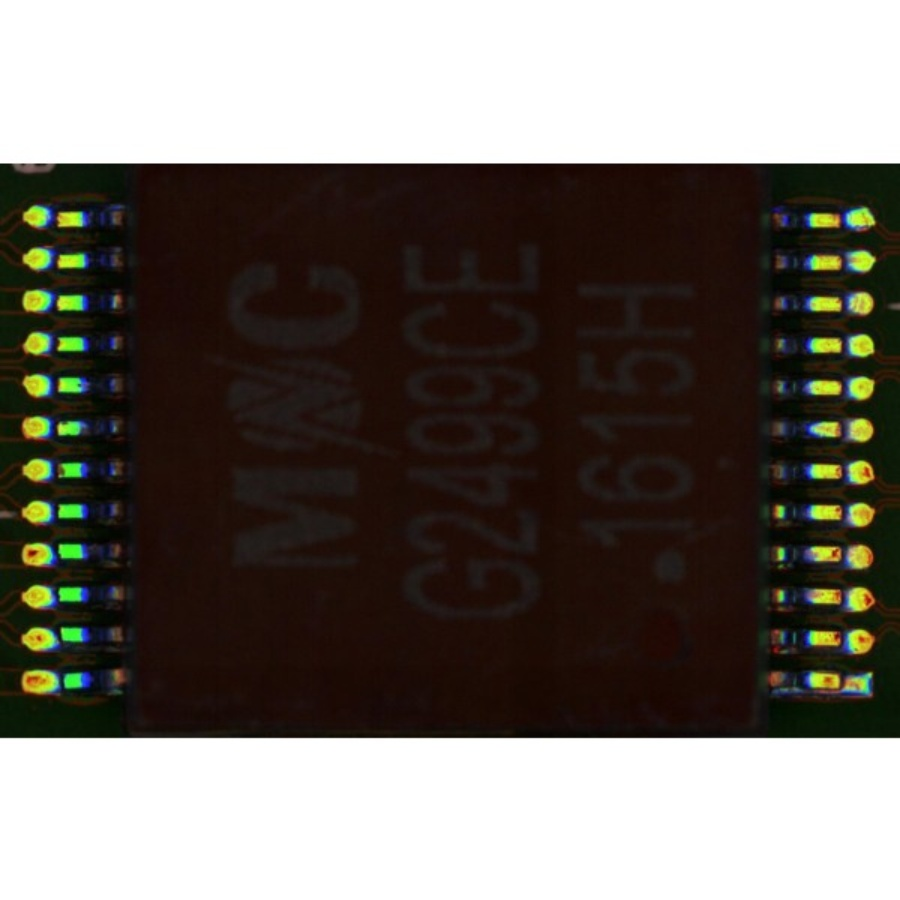Bad_podu: (831, 676, 854, 690)
Bad_qiaojiao: (782, 688, 840, 694)
